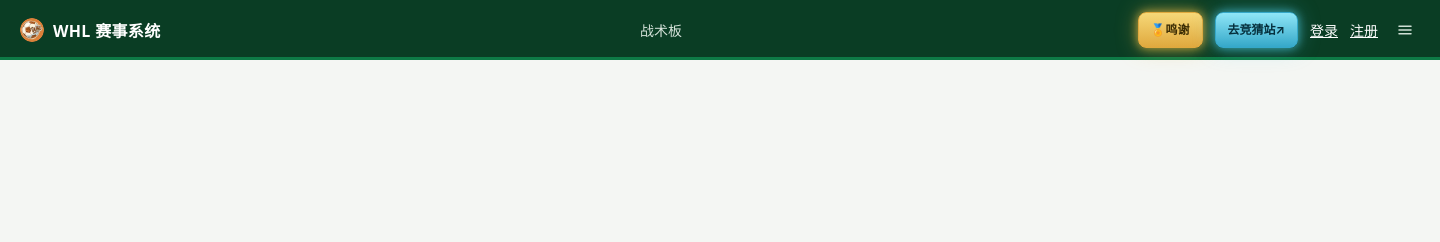
Test: 顶栏 ≡ 菜单（时区 + 登出收纳） › 未登录也渲染 ≡ 按钮，弹层只有时区三档与标题、无登出项
Click the button with class "user-menu-btn".
click(1405, 30)  # box [1390, 17, 1420, 43]
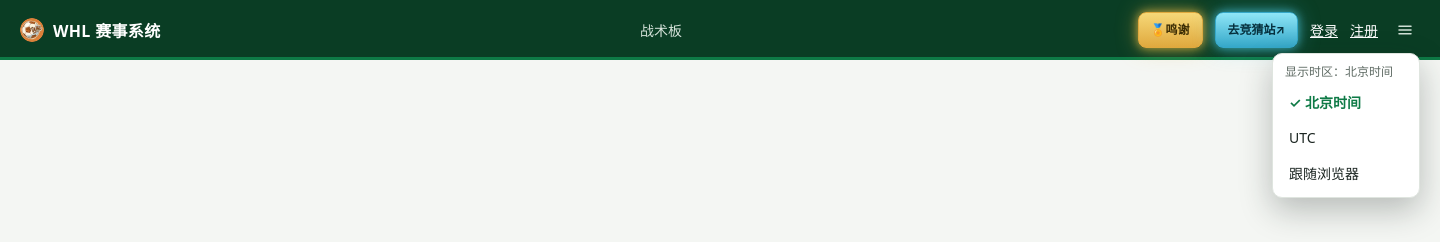
Now the text with class "user-menu-head" reads "显示时区：北京时间", box [1285, 62, 1407, 80]
